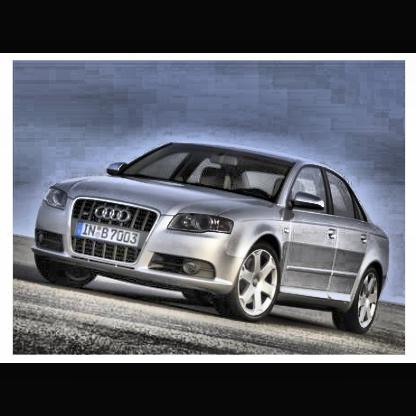Audi S4 Sedan 2007: (33, 139, 393, 337)
